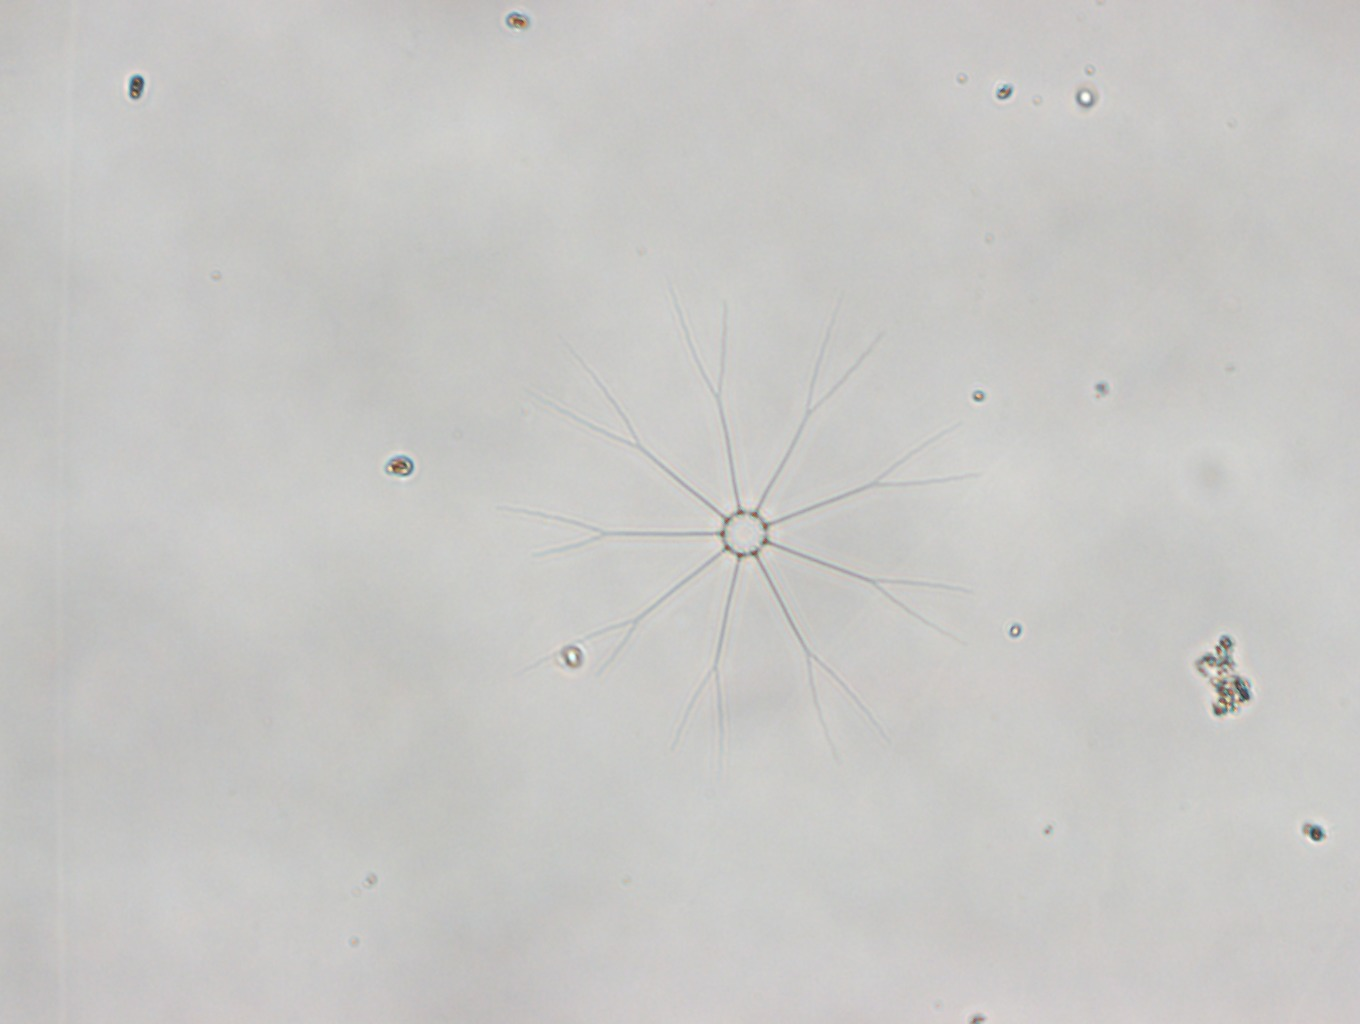bacteriastrum: (497, 279, 988, 774)
